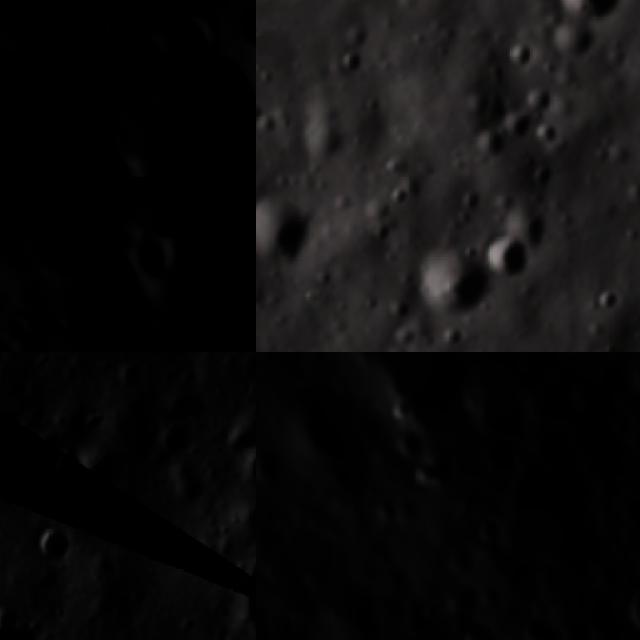crater: (131, 29, 256, 215), (151, 184, 256, 352), (25, 215, 151, 352), (405, 226, 508, 327), (256, 173, 340, 287), (288, 377, 366, 468), (539, 2, 617, 79), (478, 216, 550, 288), (544, 0, 640, 36), (492, 90, 550, 148), (522, 70, 574, 120), (169, 9, 220, 57), (134, 238, 178, 293), (329, 38, 378, 86), (26, 520, 68, 572), (502, 30, 548, 76), (40, 453, 89, 495), (158, 419, 190, 470), (473, 509, 510, 548), (590, 281, 627, 318), (383, 393, 422, 426), (368, 495, 404, 530), (0, 609, 40, 640), (396, 426, 432, 459), (448, 541, 482, 575), (474, 578, 508, 612), (416, 593, 450, 627), (50, 0, 99, 22), (460, 618, 505, 640), (256, 263, 267, 352), (238, 13, 256, 57), (244, 440, 256, 491)
